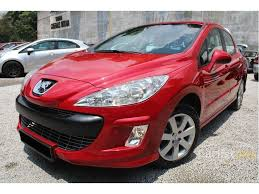car: (20, 22, 248, 170), (2, 39, 88, 74)
